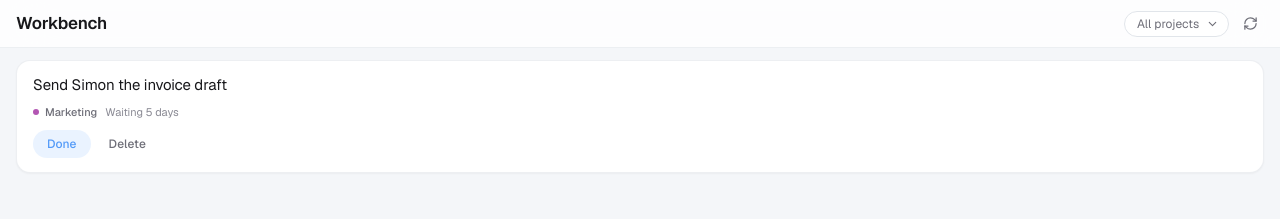
WorkbenchPage — Delete duplicate-card + error surfacing (bug #45) › surfaces a delete-error notice when the exit POST fails (non-409), instead of reverting silently
The width and height of the screenshot is (1280, 219).
Click the button with test id "workbench-card-exit-irrelevant".
click(127, 144)  # box [99,130,156,158]
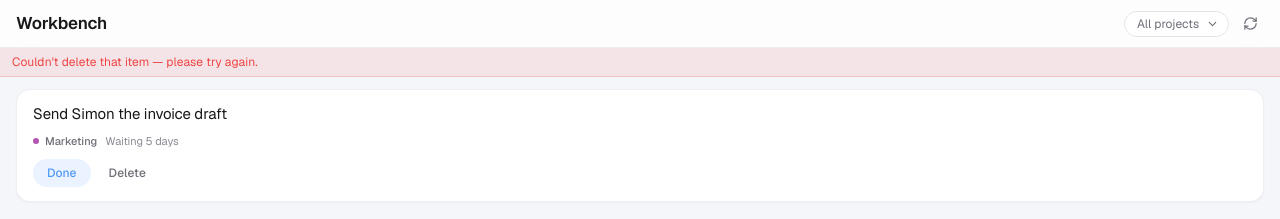
Expected: the button with test id "workbench-card-entry-proj-a-e1" is shown, [16,89,1264,202]
Expected: the text "Couldn't delete that item — please try again." is shown, [0,48,1279,77]
